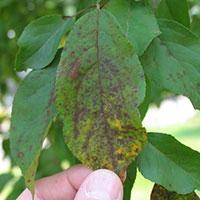Apple Scab Leaf: (56, 10, 148, 181)
